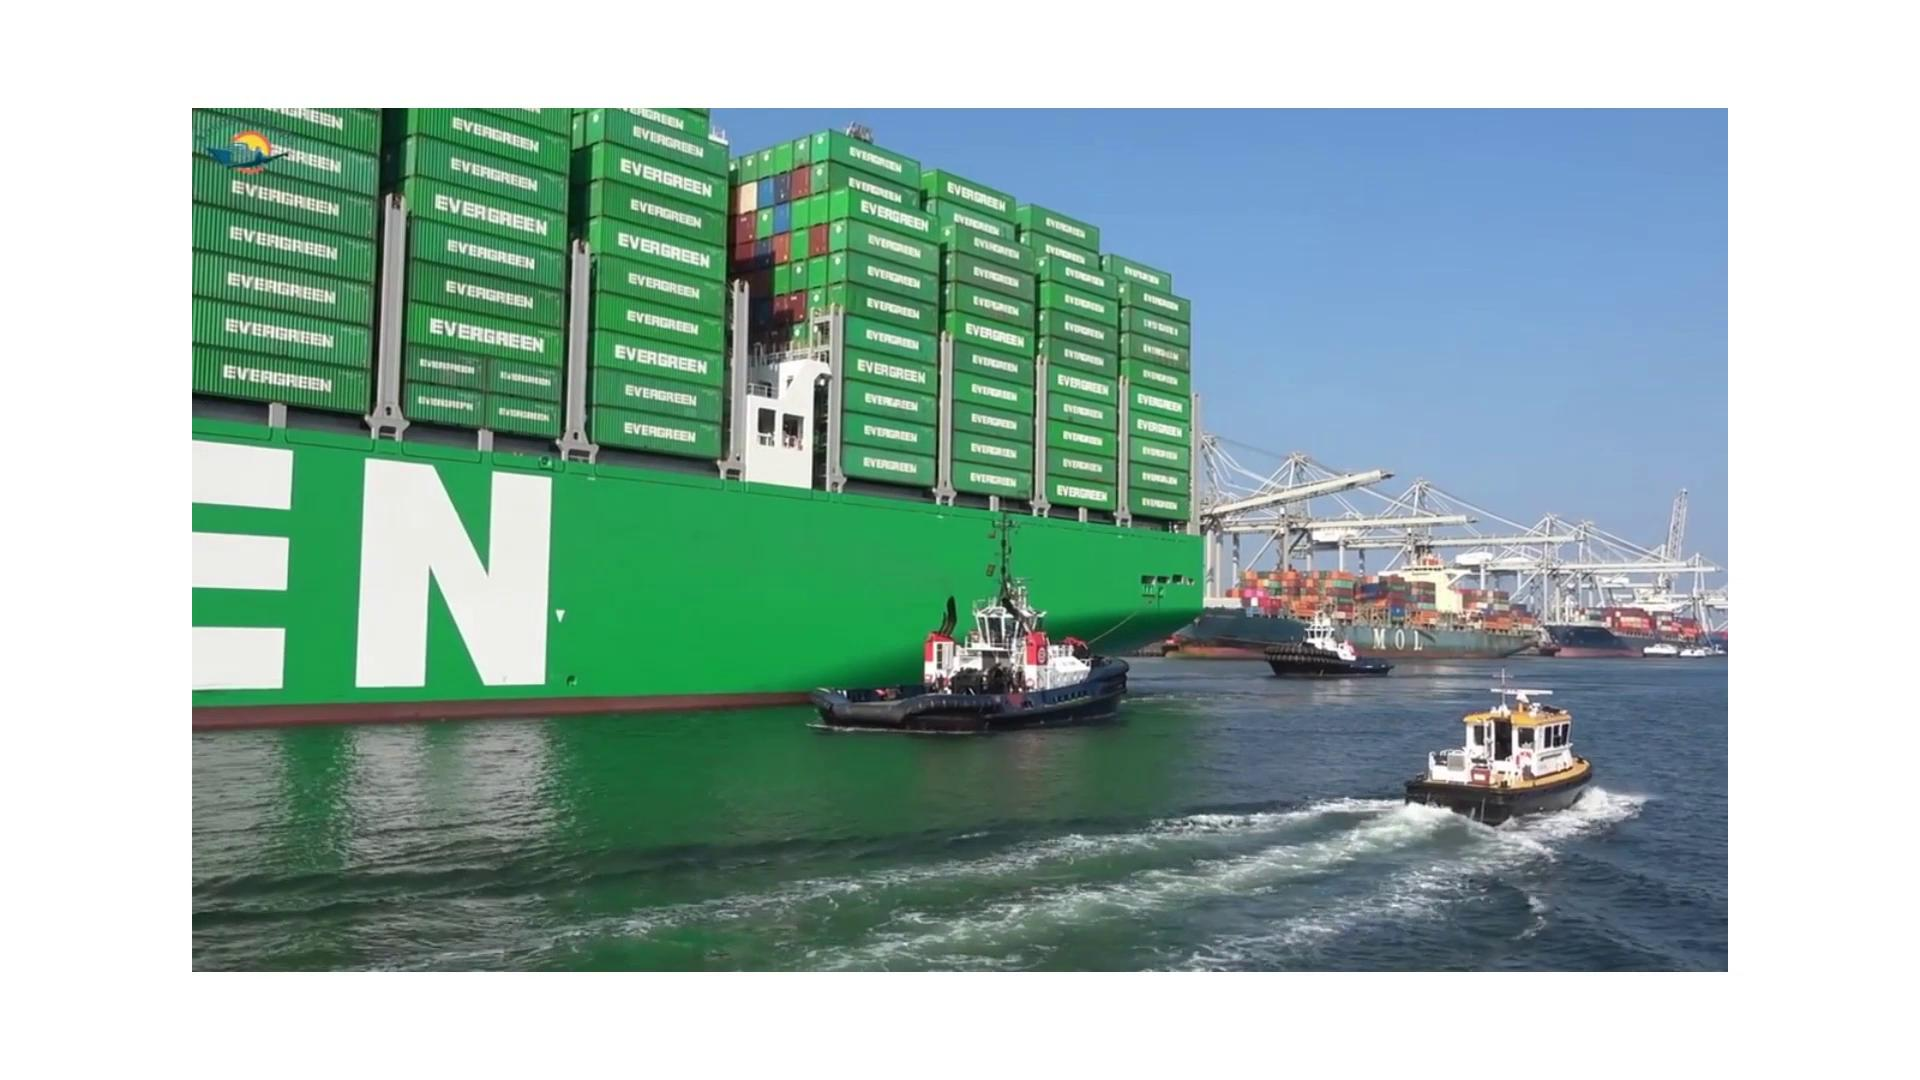OCR: (311, 443, 632, 729)
